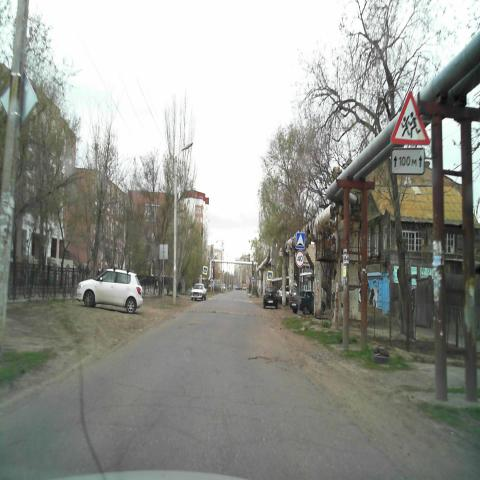5_20: (295, 231, 305, 249)
